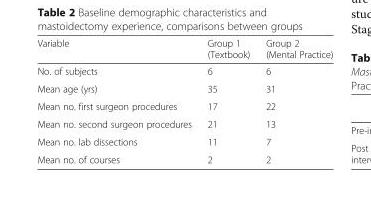table: (36, 36, 332, 164)
table column: (36, 36, 198, 164), (257, 36, 332, 164), (198, 36, 257, 164)
table column header: (36, 36, 332, 62)
table row: (36, 36, 332, 62), (36, 79, 332, 97), (36, 114, 332, 132), (36, 132, 332, 150), (36, 62, 332, 79), (36, 97, 332, 114), (36, 150, 332, 164)
